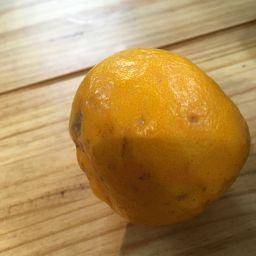Unripe: (69, 49, 248, 227)
